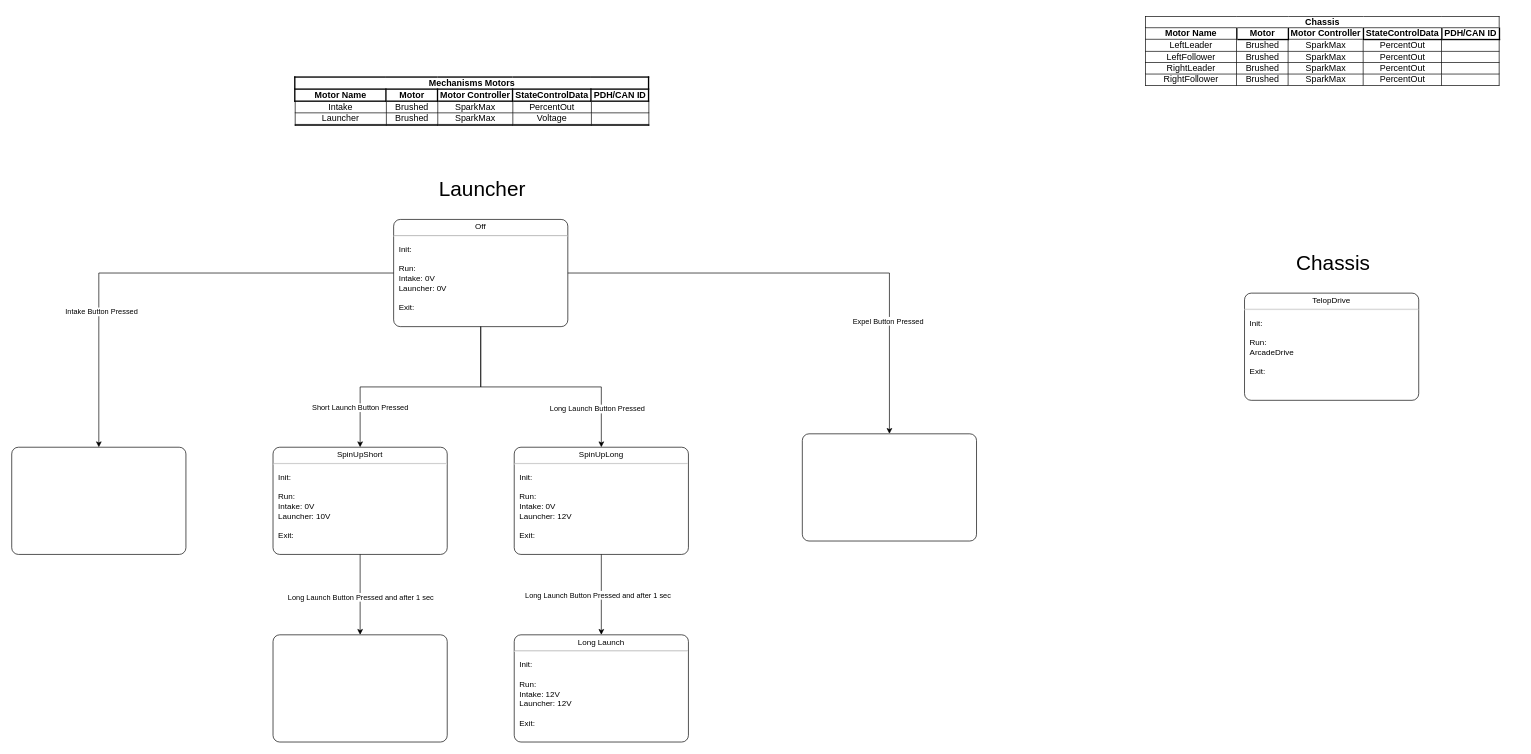
The diagram is 1531 pixels wide and 754 high, and some of its shapes have lost their labels. Each missing label, with the centre of its shape:
"Expel Init: Run: Intake: -12V Launcher: -10V Exit:" belongs at (x=889, y=487).
"Intake Init: Run: Intake: 12V Launcher: 0V Exit:" belongs at (x=98, y=500).
"Short Launch Init: Run: Intake: 6V Launcher: 10V Exit:" belongs at (x=359, y=688).
